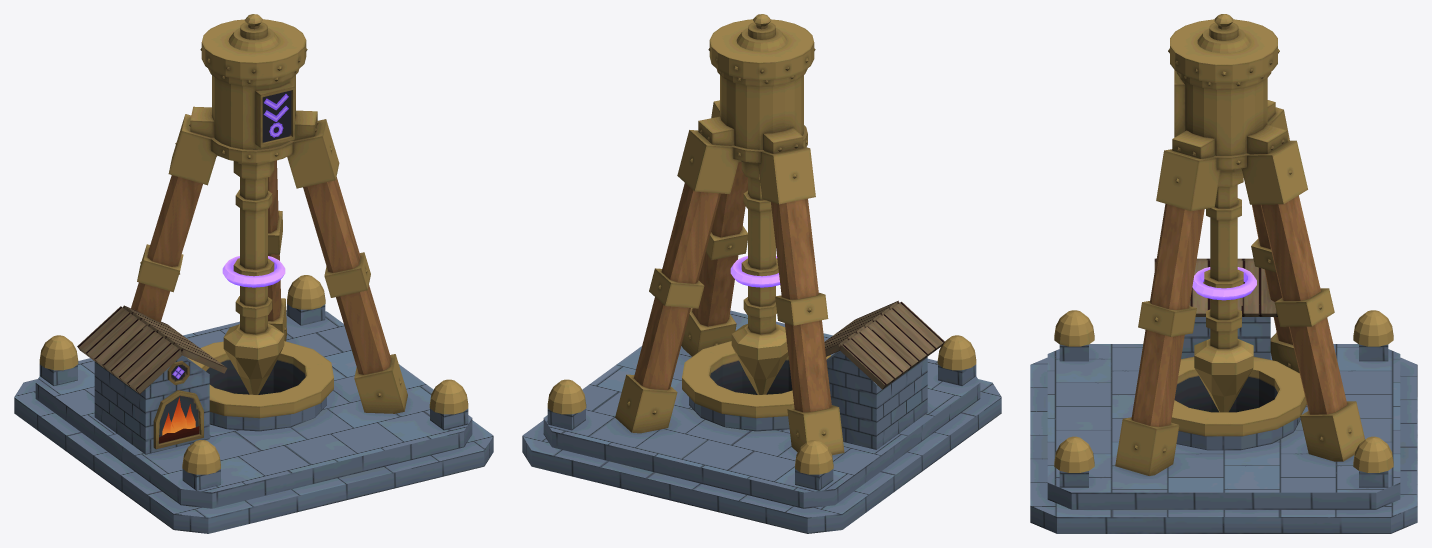
File: hearth_corer.glb
3 renders of one model, left to right at view 1: azimuth 30°, elevation 25°; view 2: azimuth 150°, elevation 25°; view 3: azimuth 270°, elevation 25°, orthographic. The views are drawn at different scales.
Parts seen in each view (by area): view 1: stone_deck, brass_crown, stone_hearth, timber_leg_fr, drill_string, timber_leg_bl, brass_collar, stone_collar, timber_leg_br, glow_ring, glow_hearth, glow_runes; view 2: stone_deck, timber_leg_br, timber_leg_bl, brass_crown, stone_hearth, drill_string, timber_leg_fr, brass_collar, stone_collar, glow_ring; view 3: stone_deck, timber_leg_fr, timber_leg_br, brass_crown, drill_string, brass_collar, stone_collar, stone_hearth, timber_leg_bl, glow_ring.
Part boxes in pixels (left/top/right/bottom): stone_deck: left=14, top=275, right=493, bottom=533; brass_crown: left=189, top=14, right=318, bottom=165; stone_hearth: left=77, top=305, right=227, bottom=454; timber_leg_fr: left=287, top=119, right=407, bottom=413; drill_string: left=223, top=161, right=284, bottom=394; timber_leg_bl: left=131, top=114, right=217, bottom=322; brass_collar: left=188, top=341, right=333, bottom=418; stone_collar: left=206, top=359, right=326, bottom=431; timber_leg_br: left=268, top=160, right=286, bottom=341; glow_ring: left=222, top=256, right=285, bottom=287; glow_hearth: left=159, top=397, right=199, bottom=443; glow_runes: left=172, top=94, right=288, bottom=378; stone_deck: left=522, top=310, right=1001, bottom=533; timber_leg_br: left=615, top=130, right=738, bottom=433; timber_leg_bl: left=758, top=146, right=844, bottom=455; brass_crown: left=698, top=14, right=815, bottom=165; stone_hearth: left=824, top=300, right=944, bottom=449; drill_string: left=731, top=162, right=788, bottom=394; timber_leg_fr: left=681, top=100, right=747, bottom=356; brass_collar: left=682, top=341, right=830, bottom=418; stone_collar: left=689, top=359, right=792, bottom=431; glow_ring: left=730, top=256, right=780, bottom=287; stone_deck: left=1030, top=310, right=1417, bottom=533; timber_leg_fr: left=1115, top=149, right=1220, bottom=475; timber_leg_br: left=1241, top=140, right=1364, bottom=461; brass_crown: left=1168, top=14, right=1287, bottom=172; drill_string: left=1194, top=169, right=1253, bottom=412; brass_collar: left=1171, top=356, right=1306, bottom=436; stone_collar: left=1174, top=376, right=1300, bottom=450; stone_hearth: left=1154, top=258, right=1277, bottom=359; timber_leg_bl: left=1251, top=107, right=1299, bottom=372; glow_ring: left=1192, top=267, right=1256, bottom=300.
Size of the model in its own units: 2.9 by 3.62 by 2.9.
6 materials, 5 textured.
